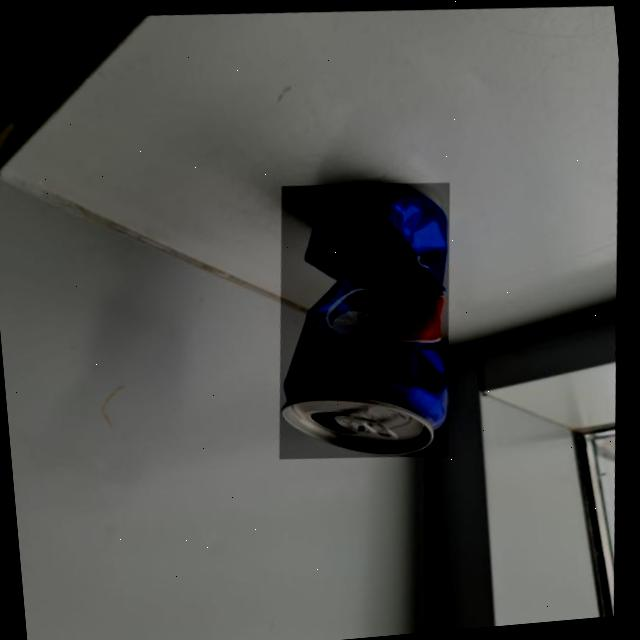trash: (264, 166, 476, 462)
